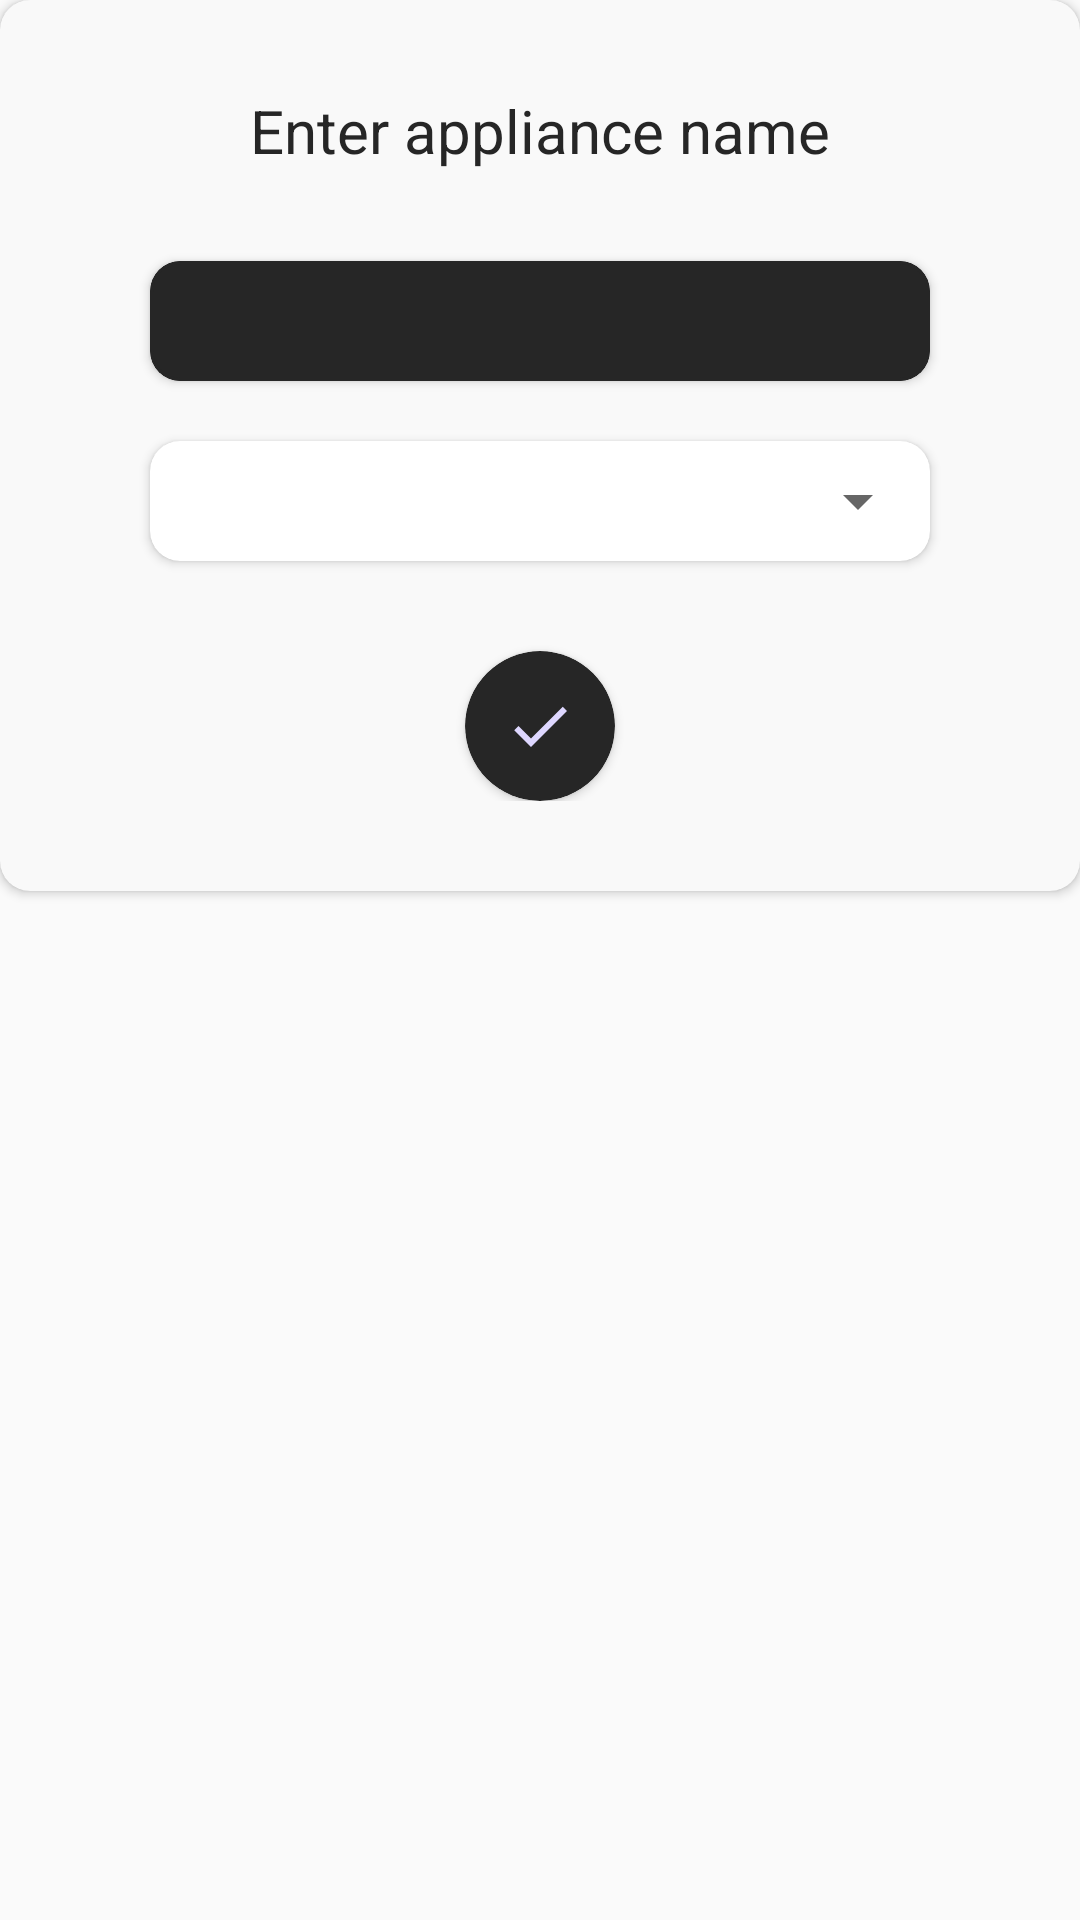

Icons on this 1080×1920 Android screen, each with its box as bbox(x1, y1, x2, y2):
check: bbox(514, 707, 567, 747)
